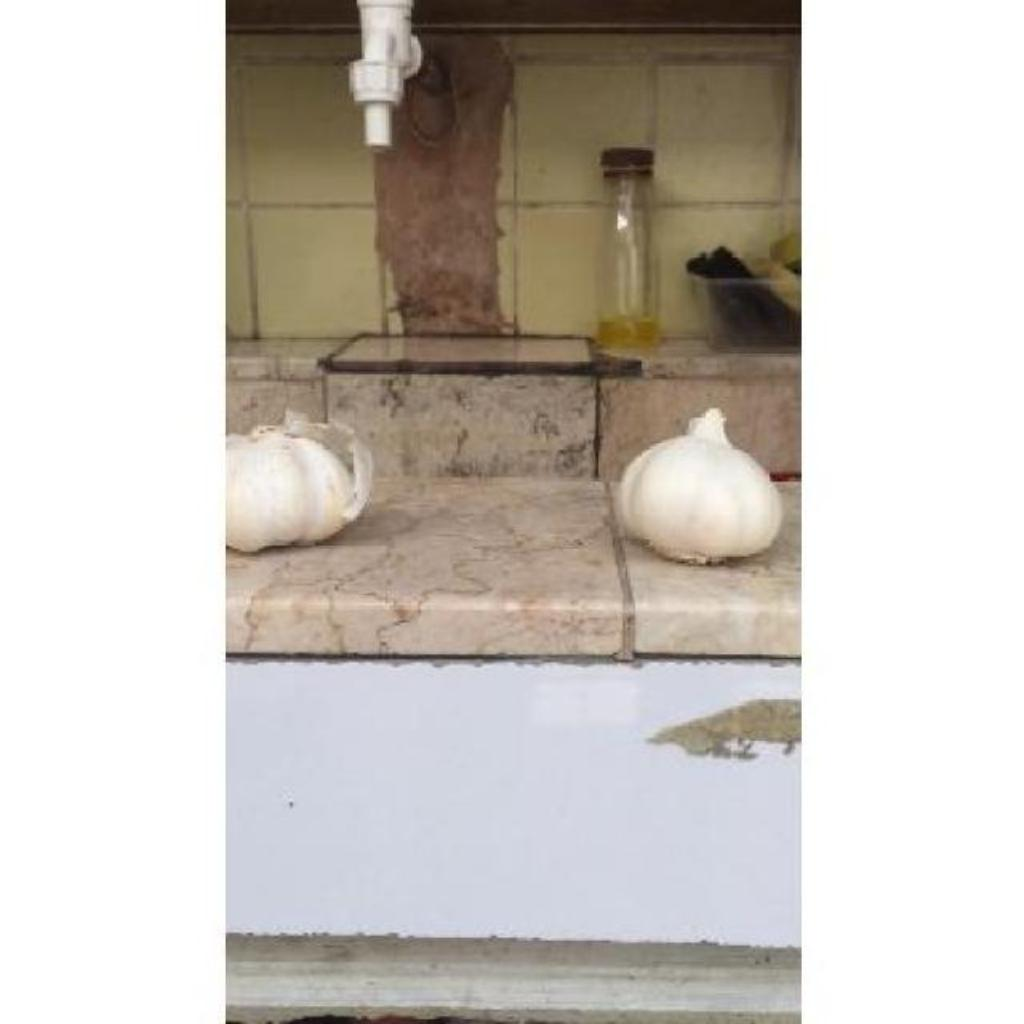garlic: (616, 408, 782, 563), (226, 414, 372, 552)
